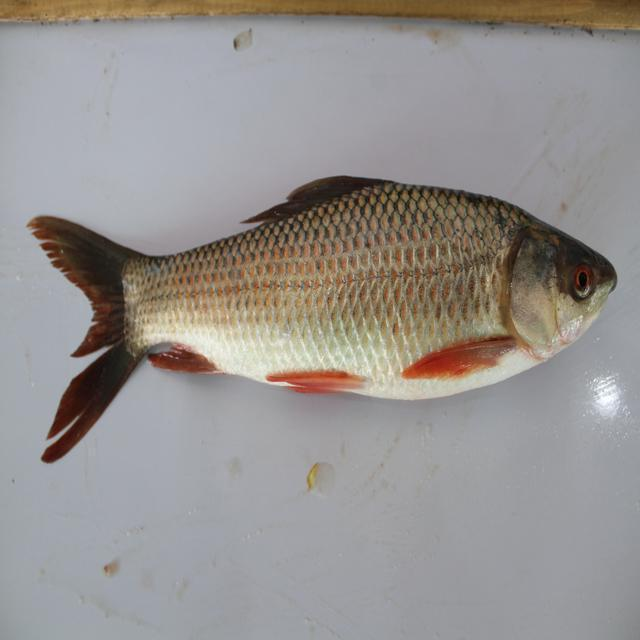Rohu: (21, 148, 623, 471)
